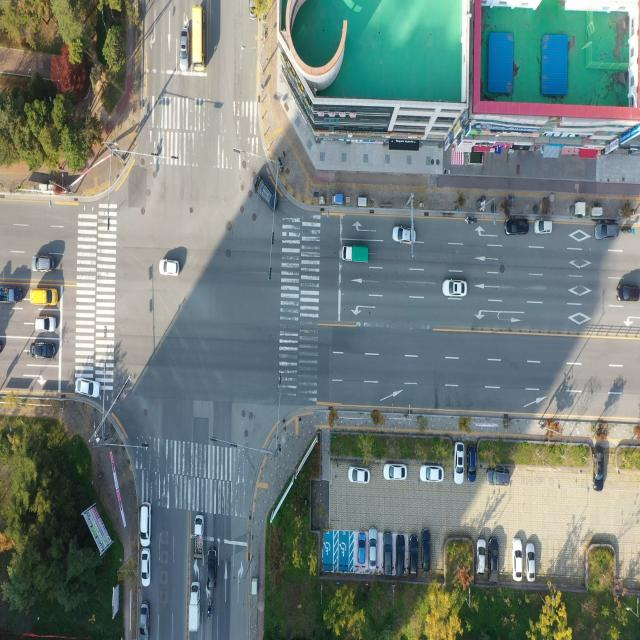car: (255, 178, 278, 214), (29, 288, 57, 307), (139, 504, 151, 548), (75, 379, 100, 400), (490, 539, 501, 581), (487, 467, 511, 486), (138, 603, 150, 640), (421, 528, 431, 572), (208, 549, 218, 593), (617, 284, 640, 303), (444, 280, 468, 298), (384, 462, 408, 480), (32, 343, 56, 361), (511, 541, 521, 583), (384, 533, 394, 575), (421, 464, 444, 482), (596, 224, 619, 242), (455, 442, 465, 483), (396, 536, 406, 576), (411, 534, 421, 574), (393, 228, 415, 246), (33, 255, 55, 273), (526, 542, 536, 581), (180, 28, 189, 71), (507, 219, 531, 235), (595, 447, 605, 485), (161, 261, 181, 279), (350, 466, 370, 484), (368, 531, 377, 570), (141, 549, 150, 587), (468, 445, 478, 479), (36, 317, 57, 333), (479, 540, 488, 576), (358, 532, 367, 566), (534, 220, 552, 234), (250, 0, 257, 19)
small_bus: (192, 4, 206, 72)
small_truck: (188, 583, 200, 635), (343, 243, 372, 261), (0, 285, 23, 304), (194, 516, 204, 559)
